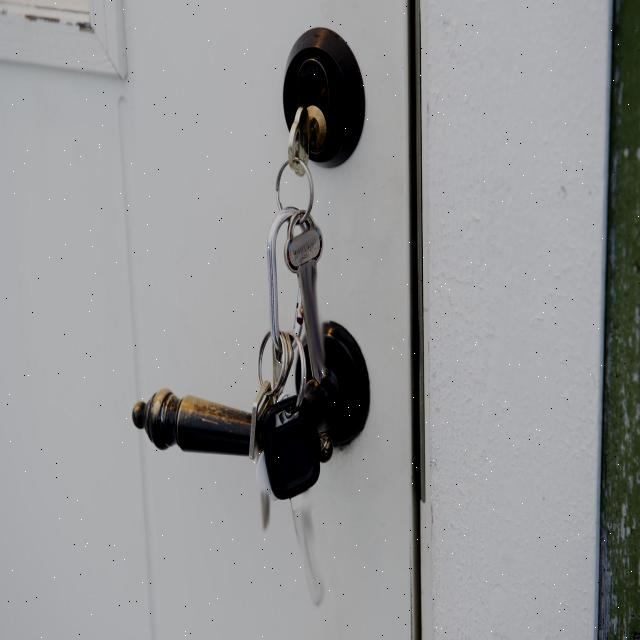Frontdoor keys: (286, 209, 328, 387)
